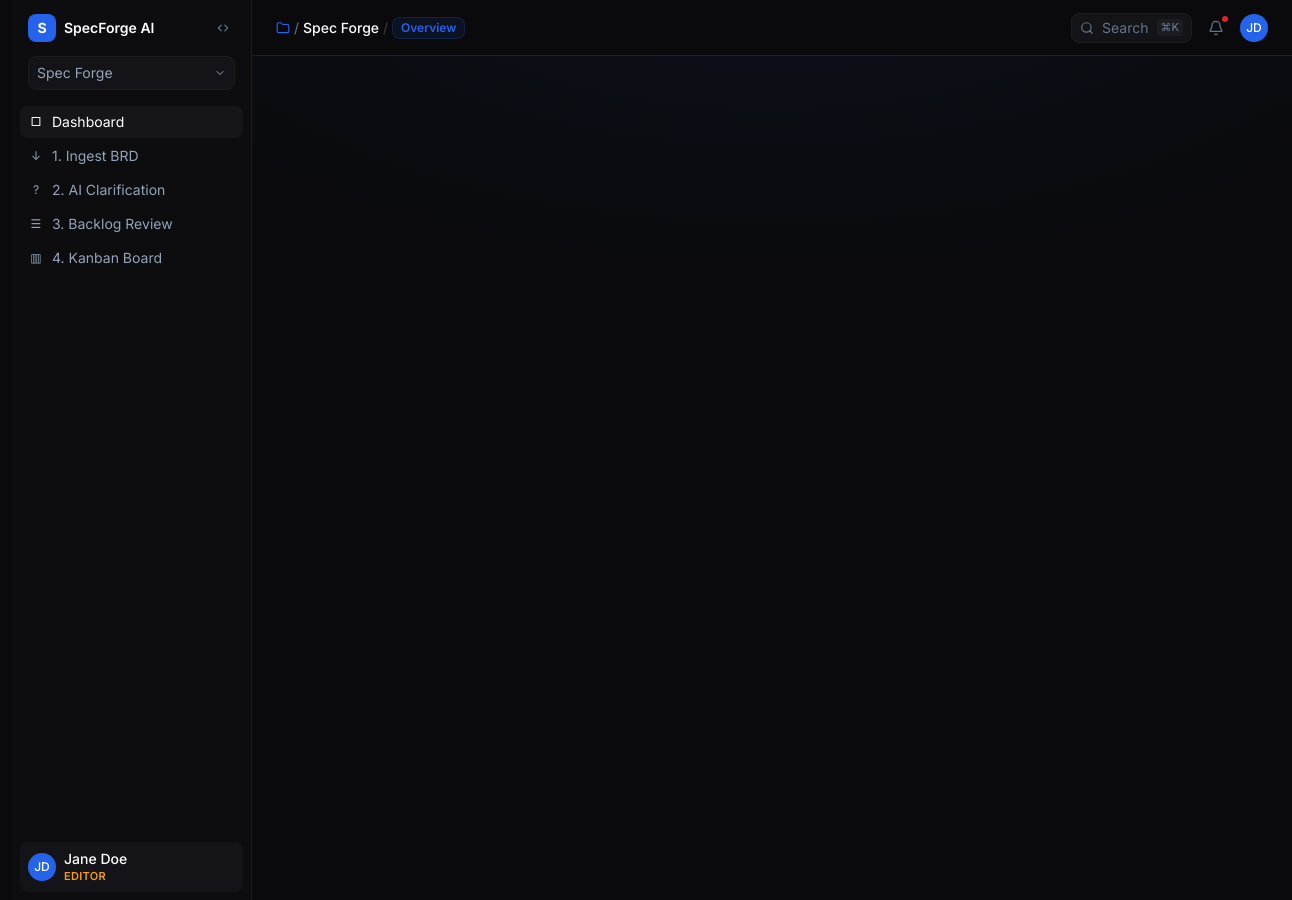
Test: Layout › opens the sidebar user menu with email, role, and a Log out action
Click the button with aria-label "User menu". click: point(132, 867)
box: [20,842,243,892]
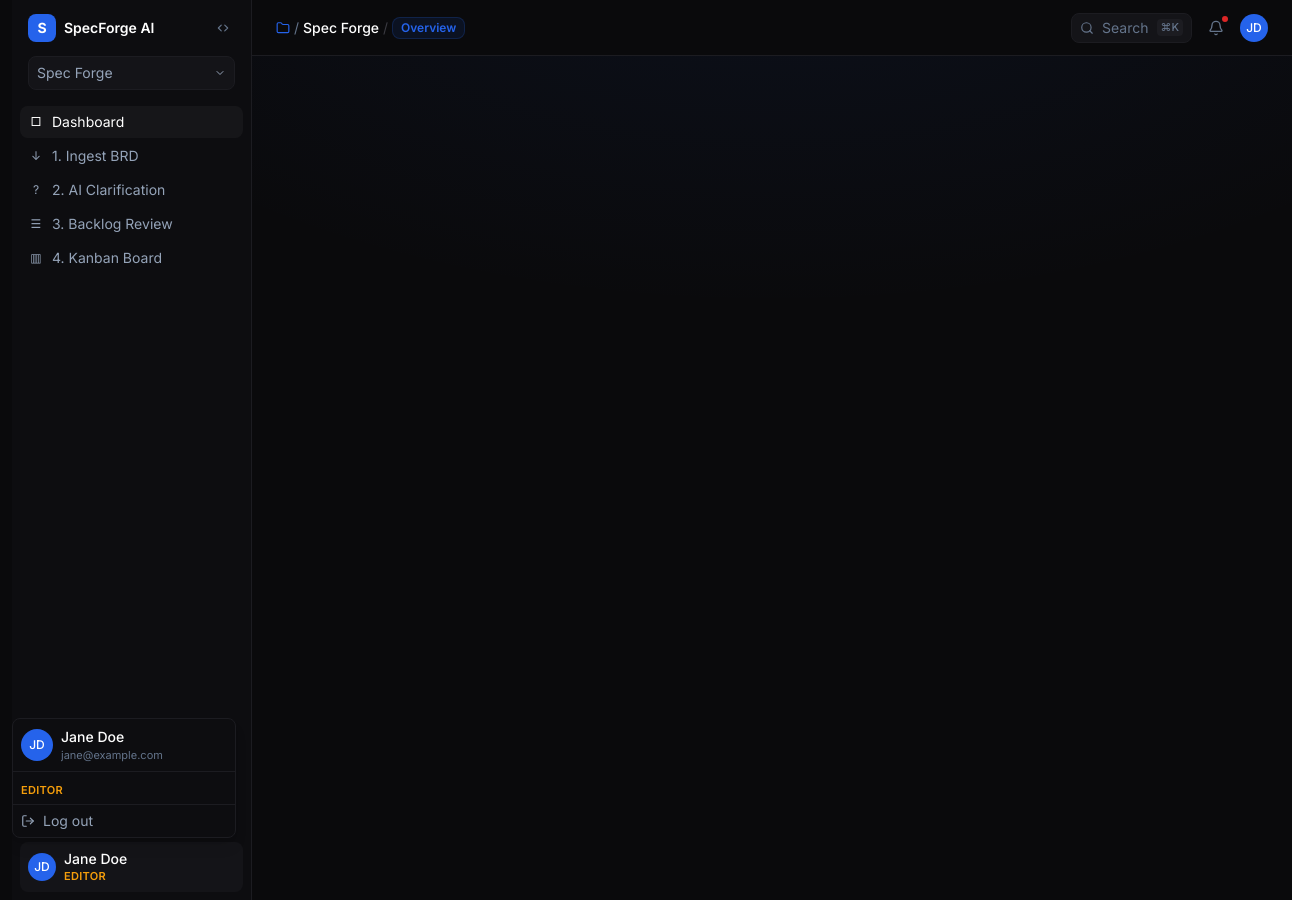
Expected: the 2nd text "editor" is shown, [64,868,106,882]
Result: the text "jane@example.com" is shown at [61,746,163,763]
Result: the menu item "Log out" is shown at [13,805,235,837]
